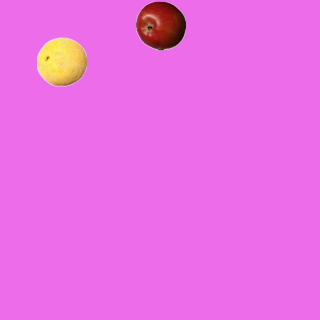Apple Braeburn: (135, 0, 185, 50)
Cantaloupe 1: (36, 36, 86, 86)
